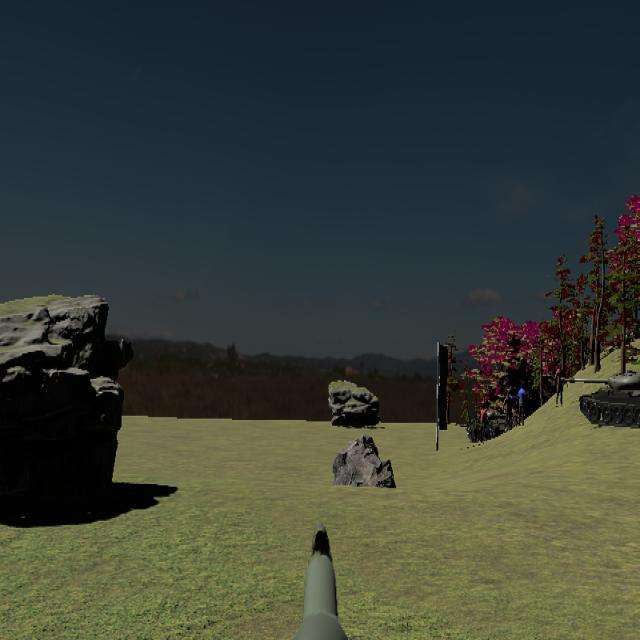Tank: (557, 370, 640, 430)
